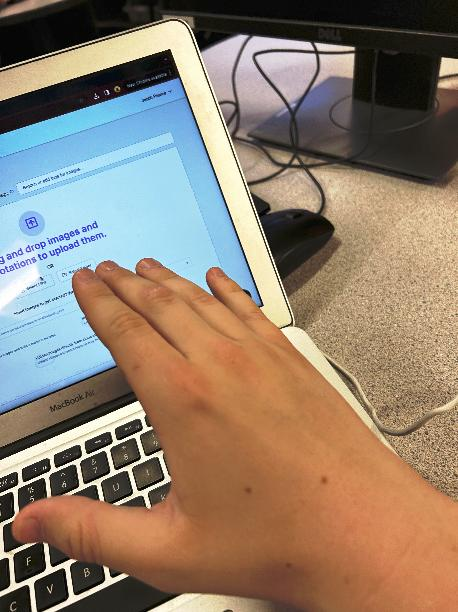Paper: (8, 229, 425, 607)
